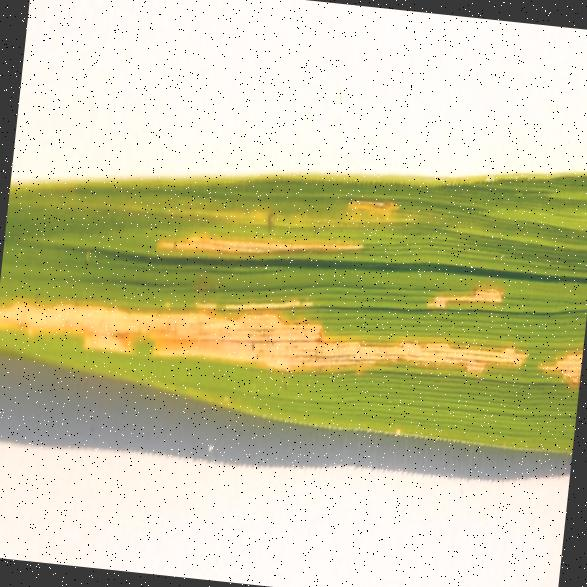Bacteria_Leaf_Blight: (0, 256, 586, 418), (143, 137, 538, 343)
